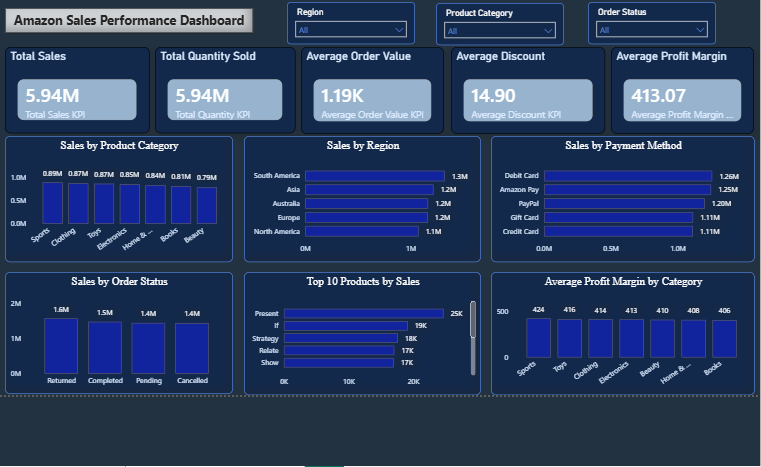

The dashboard page shown, as its layout file describes it:
{"tool":"powerbi","page":{"name":"Amazon Sales Dashboard","canvas":[1280,720],"ordinal":0},"visuals":[{"type":"cardVisual","title":"Total Sales","fields":{"Data":["Amazon_Sales_Dataset.Total Sales KPI"]},"box":[11.7,136.1,242.9,144.9],"z":0},{"type":"cardVisual","title":"Total Quantity Sold","fields":{"Data":["Amazon_Sales_Dataset.Total Sales KPI"]},"box":[263.4,136.1,235.6,144.9],"z":1000},{"type":"cardVisual","title":"Average Order Value","fields":{"Data":["Amazon_Sales_Dataset.Average Order Value KPI"]},"box":[509.3,136.1,240,146.3],"z":2000},{"type":"cardVisual","title":"Average Discount","fields":{"Data":["Amazon_Sales_Dataset.Average Discount KPI"]},"box":[761,136.1,259,146.3],"z":3000},{"type":"cardVisual","title":"Average Profit Margin","fields":{"Data":["Amazon_Sales_Dataset.Average Profit Margin KPI"]},"box":[1030.2,136.1,240,146.3],"z":4000},{"type":"clusteredColumnChart","title":"Sales by Product Category","fields":{"Category":["Amazon_Sales_Dataset.Product Category"],"Y":["Sum(Amazon_Sales_Dataset.Total Sales)"]},"box":[11.8,285.6,383,211.7],"z":5000},{"type":"clusteredBarChart","title":"Sales by Region","fields":{"Category":["Amazon_Sales_Dataset.Region"],"Y":["Sum(Amazon_Sales_Dataset.Total Sales)"]},"box":[413.2,285.6,398.1,211.7],"z":6000},{"type":"clusteredBarChart","title":"Sales by Payment Method","fields":{"Category":["Amazon_Sales_Dataset.Payment Method"],"Y":["Sum(Amazon_Sales_Dataset.Total Sales)"]},"box":[828.1,285.6,443.5,211.7],"z":7000},{"type":"clusteredColumnChart","title":"Sales by Order Status","fields":{"Category":["Amazon_Sales_Dataset.Order Status"],"Y":["Sum(Amazon_Sales_Dataset.Total Sales)"]},"box":[11.8,514,383,204.9],"z":8000},{"type":"clusteredBarChart","title":"Top 10 Products by Sales","fields":{"Category":["Amazon_Sales_Dataset.Product Name"],"Y":["Sum(Amazon_Sales_Dataset.Total Sales)"]},"box":[413.2,513.4,398.1,206.6],"z":9000},{"type":"clusteredColumnChart","title":"Average Profit Margin by Category","fields":{"Category":["Amazon_Sales_Dataset.Product Category"],"Y":["Avg(Amazon_Sales_Dataset.Profit Margin)"]},"box":[828.1,514,443.5,206.6],"z":10000},{"type":"textbox","box":[11.8,70.6,416.6,42],"z":11000},{"type":"slicer","fields":{"Values":["Amazon_Sales_Dataset.Region"]},"box":[485.5,60.5,215,70.6],"z":11001},{"type":"slicer","fields":{"Values":["Amazon_Sales_Dataset.Product Category"]},"box":[735.7,62.2,215,70.6],"z":11002},{"type":"slicer","fields":{"Values":["Amazon_Sales_Dataset.Order Status"]},"box":[991.1,60.5,215,70.6],"z":11003}]}

Visuals, with their boxes on the page's 1280x720 design canvas (x1, y1, x2, y2). These are canvas units, not pixel positions in the 761x467 screenshot, which may show the page scaled, cropped or inside an application window:
"Total Sales" cardVisual: [left=12, top=136, right=255, bottom=281]
"Total Quantity Sold" cardVisual: [left=263, top=136, right=499, bottom=281]
"Average Order Value" cardVisual: [left=509, top=136, right=749, bottom=282]
"Average Discount" cardVisual: [left=761, top=136, right=1020, bottom=282]
"Average Profit Margin" cardVisual: [left=1030, top=136, right=1270, bottom=282]
"Sales by Product Category" clusteredColumnChart: [left=12, top=286, right=395, bottom=497]
"Sales by Region" clusteredBarChart: [left=413, top=286, right=811, bottom=497]
"Sales by Payment Method" clusteredBarChart: [left=828, top=286, right=1272, bottom=497]
"Sales by Order Status" clusteredColumnChart: [left=12, top=514, right=395, bottom=719]
"Top 10 Products by Sales" clusteredBarChart: [left=413, top=513, right=811, bottom=720]
"Average Profit Margin by Category" clusteredColumnChart: [left=828, top=514, right=1272, bottom=721]
textbox: [left=12, top=71, right=428, bottom=113]
slicer - Amazon_Sales_Dataset.Region: [left=486, top=60, right=700, bottom=131]
slicer - Amazon_Sales_Dataset.Product Category: [left=736, top=62, right=951, bottom=133]
slicer - Amazon_Sales_Dataset.Order Status: [left=991, top=60, right=1206, bottom=131]
